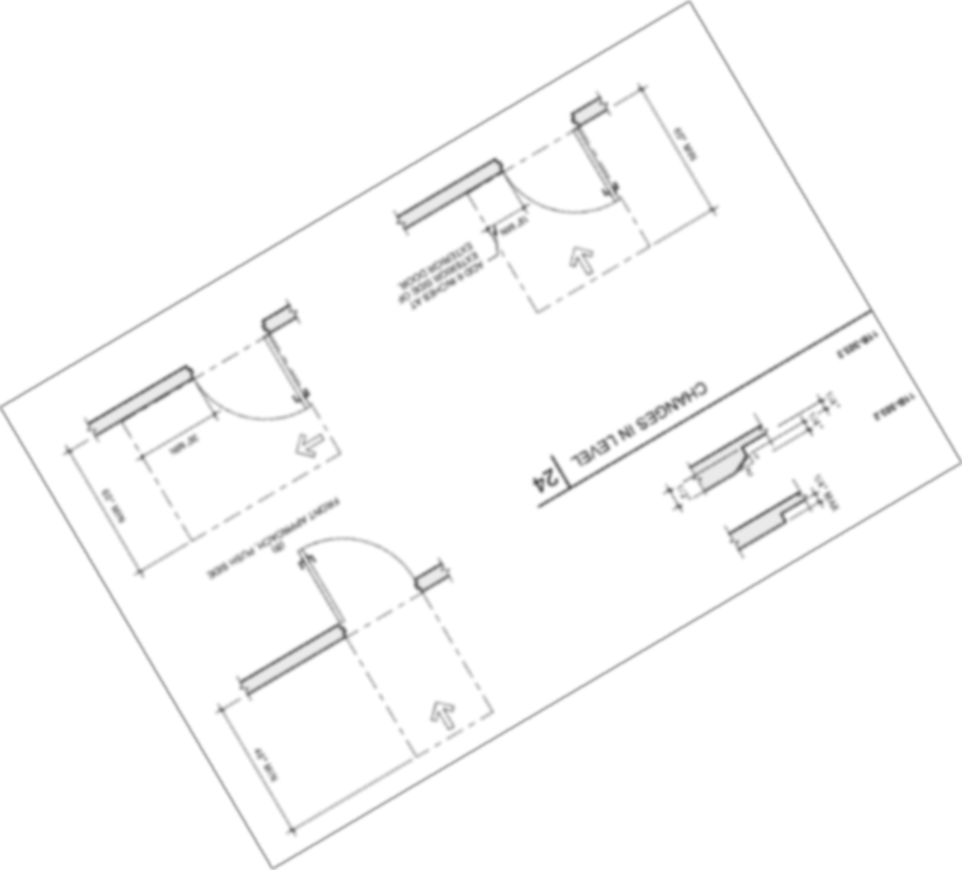door: (286, 533, 438, 641), (492, 121, 629, 233), (180, 326, 320, 434)
